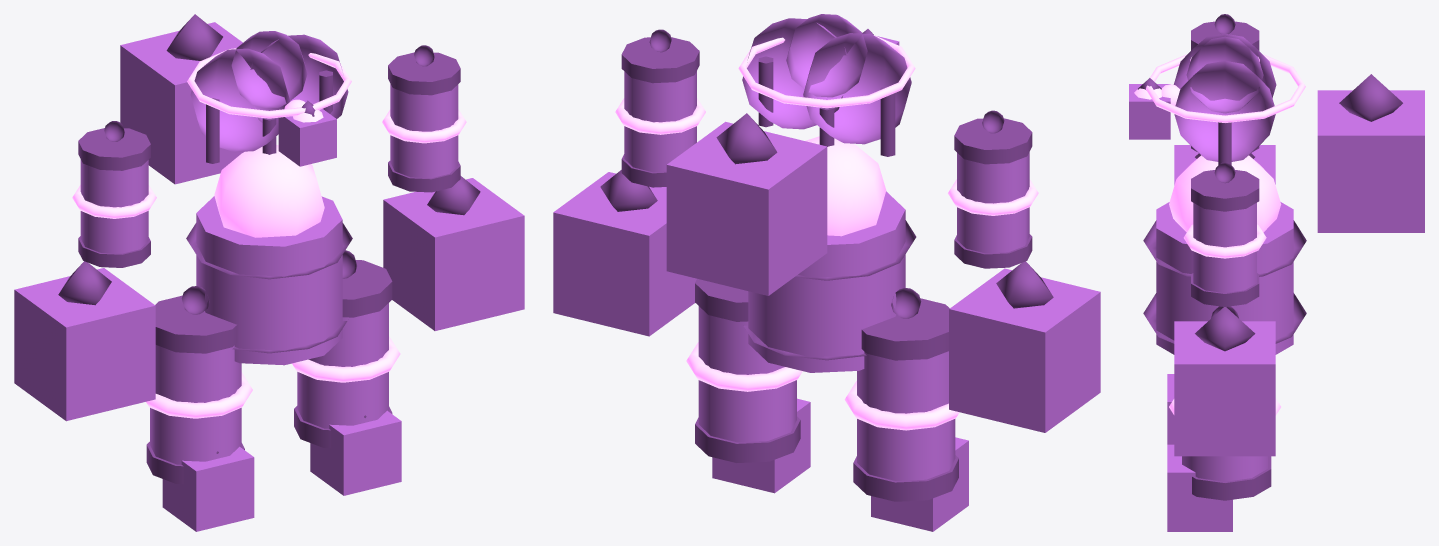
The model's file is golem_116.glb.
3 views of the same model, side by side, from view 1: azimuth 30°, elevation 25°; view 2: azimuth 150°, elevation 25°; view 3: azimuth 270°, elevation 25° (orthographic). The views are drawn at different scales.
Parts seen in each view (by area): view 1: Body, Detail, Glow; view 2: Body, Detail, Glow; view 3: Body, Detail, Glow.
Boxes of the visible parts, x1,y1,x2,y2 form: Body: (14,22,524,531); Detail: (58,14,480,484); Glow: (72,48,466,418); Body: (553,14,1100,531); Detail: (600,29,1053,501); Glow: (615,35,1038,430); Body: (1129,33,1424,531); Detail: (1137,14,1402,500); Glow: (1134,54,1305,415).
Bounding box in the file's own units: 1.27 × 1.19 × 0.7227.
